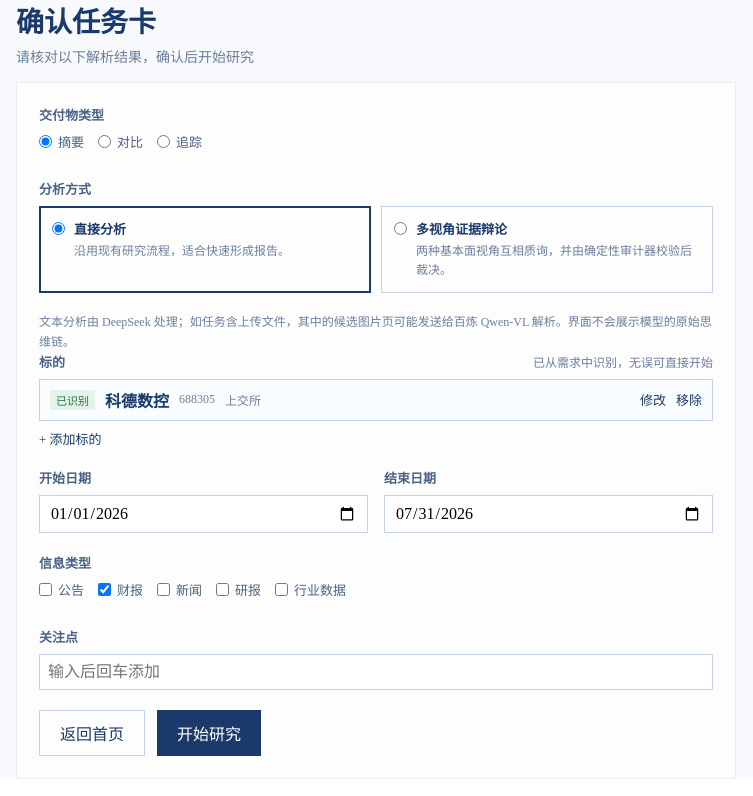
Test case: TaskConfirmView analysis mode gating › shows a canonical target as a read-only summary until the user explicitly edits it
This screenshot has width=753, height=796.
Expected: the element with class "symbol-summary" shows "科德数控", [105,393,169,410]
Expected: the element with class "symbol-summary" shows "688305", [179,392,215,406]
Click the button with aria-label "修改第 1 个标的".
click(653, 400)  # box [640,390,666,409]
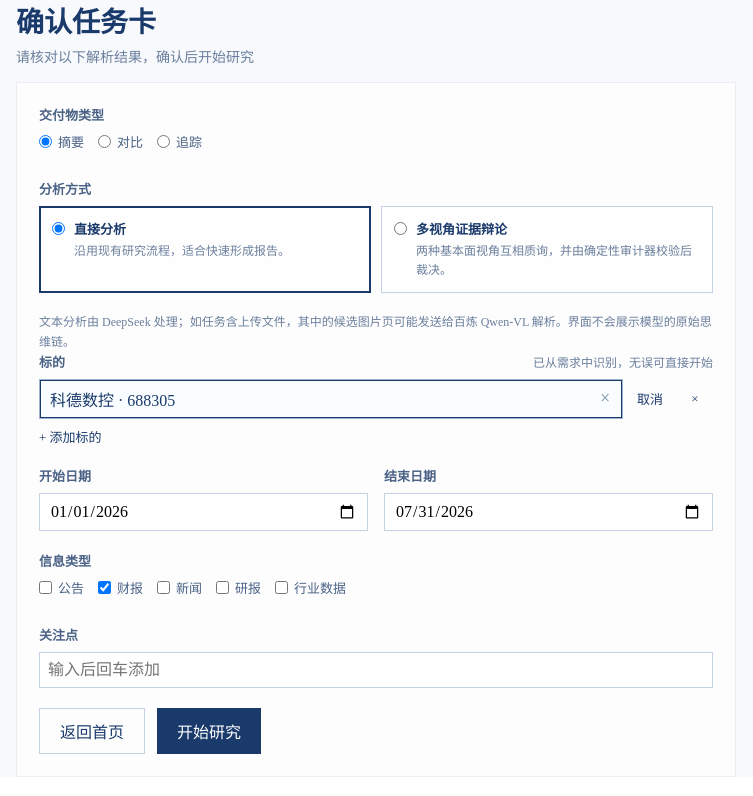
Expected: the number of "SecurityCombobox" components is 1, [39,379,623,419]
